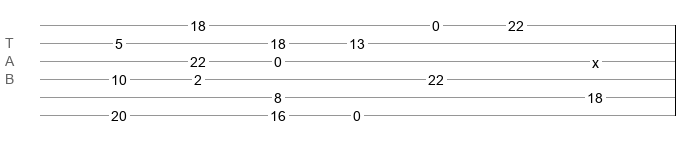0: (274, 54, 282, 64), (353, 108, 361, 118), (432, 18, 440, 28)
10: (111, 72, 127, 82)
13: (349, 36, 365, 46)
16: (270, 108, 286, 118)
18: (190, 18, 206, 28), (270, 36, 286, 46), (587, 90, 603, 100)
2: (194, 72, 202, 82)
20: (111, 108, 127, 118)
22: (190, 54, 206, 64), (428, 72, 444, 82), (508, 18, 524, 28)
5: (115, 36, 123, 46)
8: (274, 90, 282, 100)
x: (592, 55, 599, 63)
